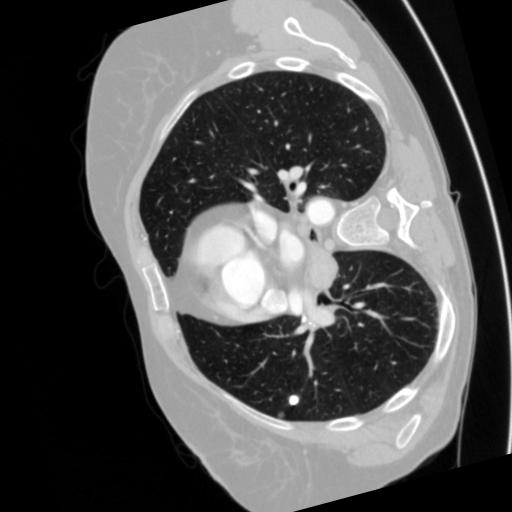nodule: (285, 392, 303, 410)
